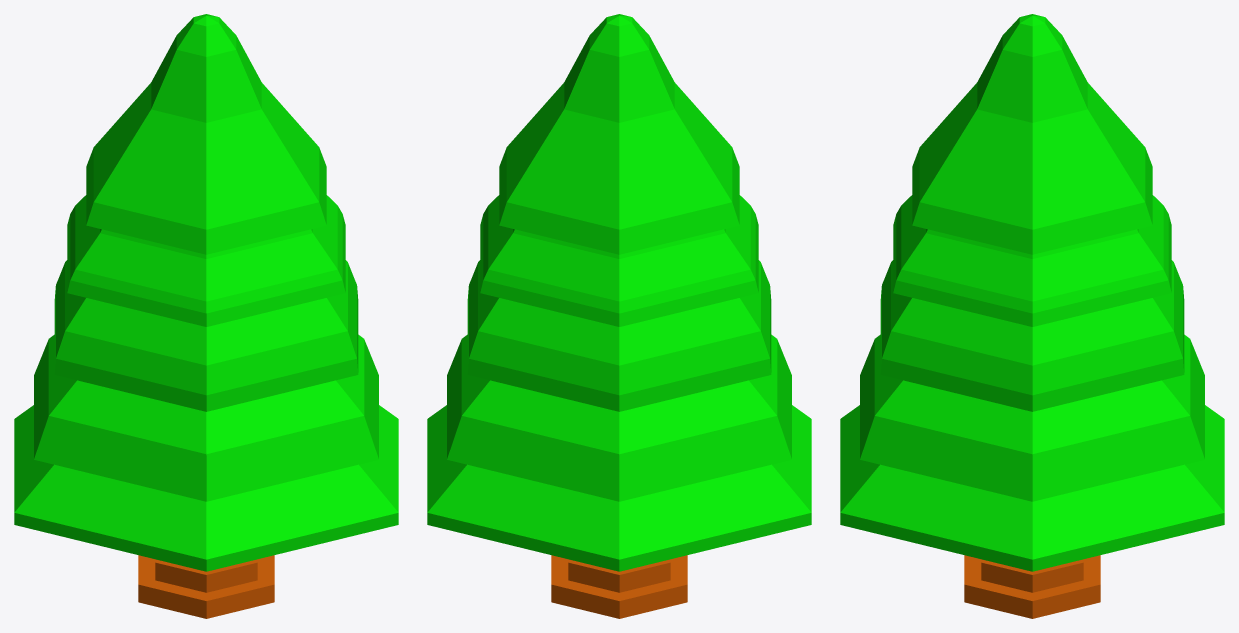
The model's file is arbol.fbx.
3 renders of one model, left to right at view 1: azimuth 30°, elevation 25°; view 2: azimuth 150°, elevation 25°; view 3: azimuth 270°, elevation 25°, orthographic.
Parts seen in each view (by area): view 1: Arbolin; view 2: Arbolin; view 3: Arbolin.
Part boxes in pixels (bbox=[...]): Arbolin: bbox=[14, 14, 398, 618]; Arbolin: bbox=[427, 14, 811, 618]; Arbolin: bbox=[840, 14, 1224, 618].
Size of the model in its own units: 0.6112 by 1 by 0.7058.
